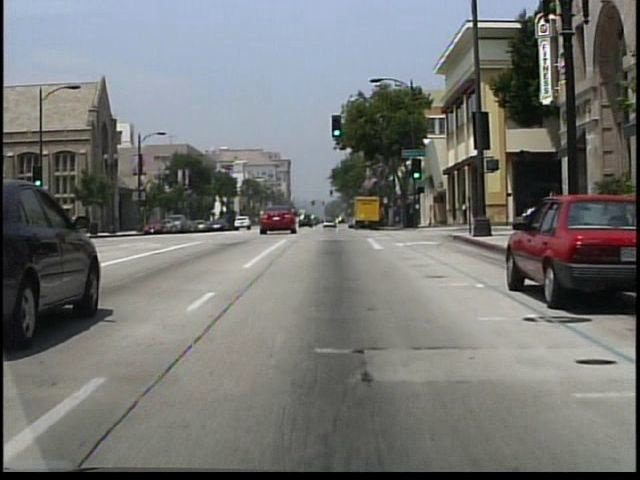person: (463, 199, 469, 227)
